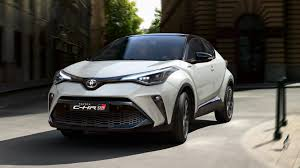Toyota: (58, 39, 222, 136)
